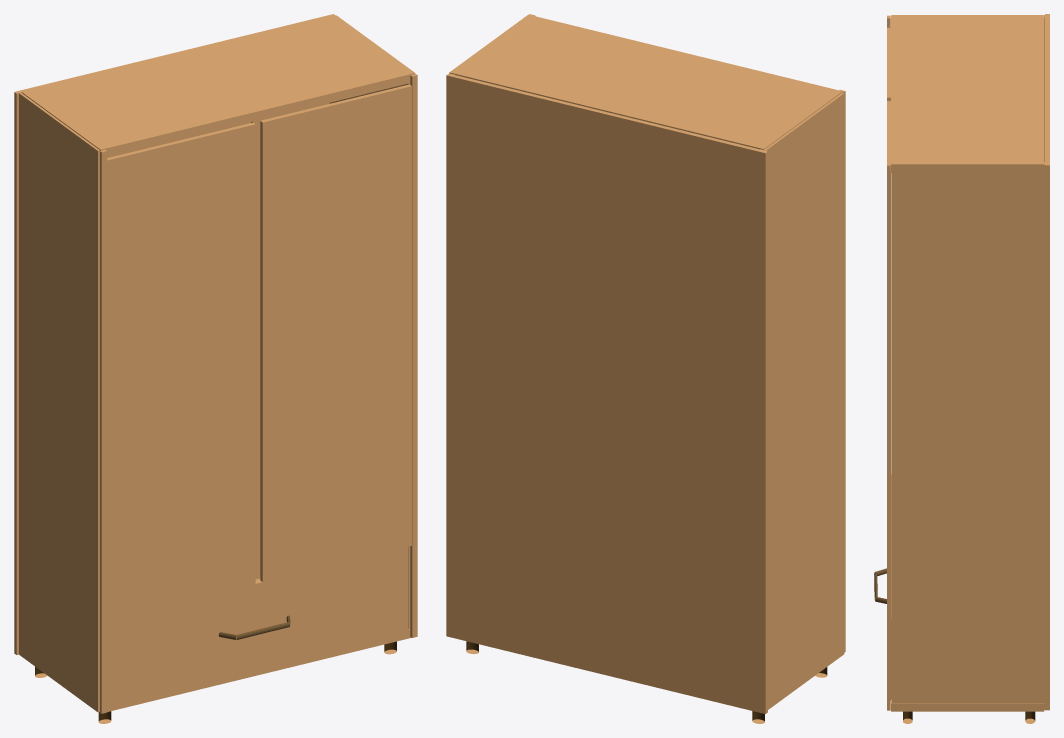
The model's file is armario.fbx.
3 views of the same model, side by side, from view 1: azimuth 30°, elevation 25°; view 2: azimuth 150°, elevation 25°; view 3: azimuth 270°, elevation 25° (orthographic). The views are drawn at different scales.
Visible parts, largest first — view 1: Cube.010; view 2: Cube.010; view 3: Cube.010.
Boxes of the visible parts, <box> form: Cube.010: <box>14,14,417,723</box>; Cube.010: <box>446,14,845,723</box>; Cube.010: <box>874,14,1049,723</box>.
Bounding box in the file's own units: 180 × 313 × 88.33.
